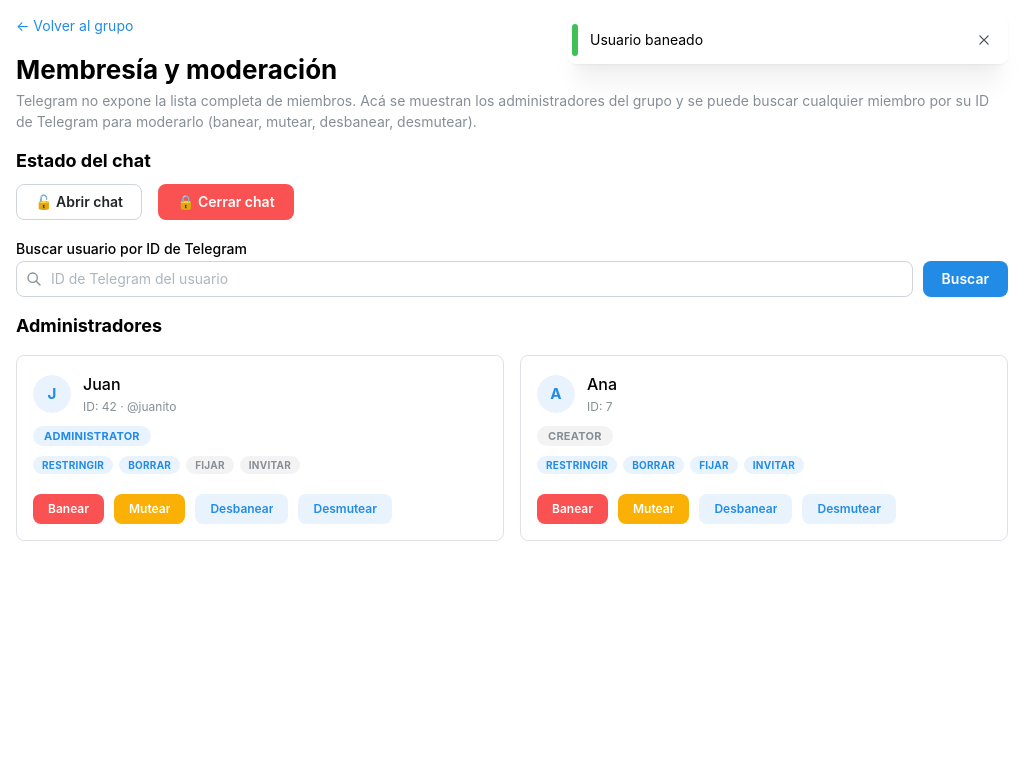
GroupUsersPage › hace lookup puntual por userId
Type "99" into the field with placeholder "ID de Telegram del usuario" at point(464, 279), box [16,261,913,297]
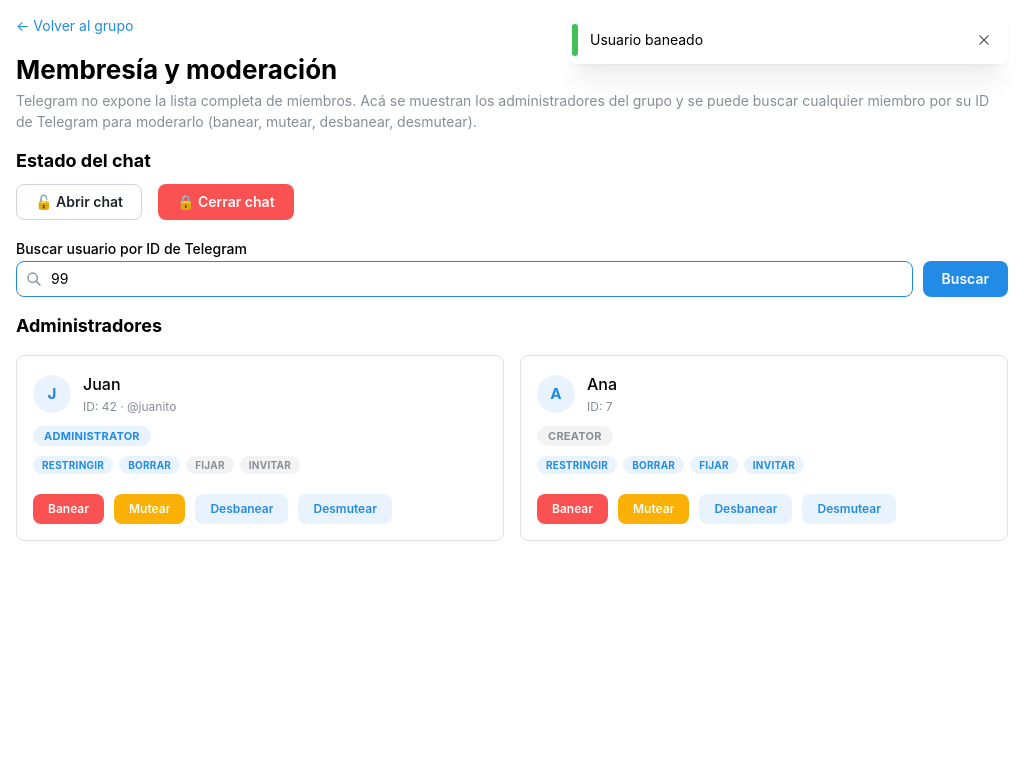
Click the button "Buscar" at point(965, 279), box [923,261,1008,297]
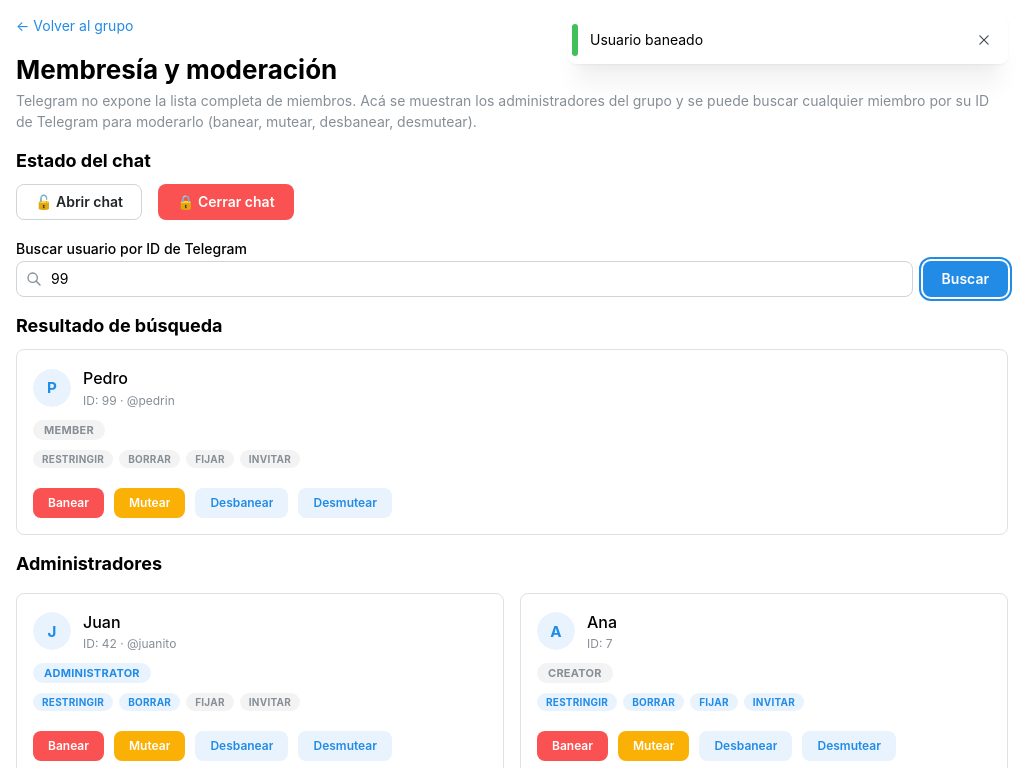
Check: the text "Pedro" is shown, box [83,368,128,388]
